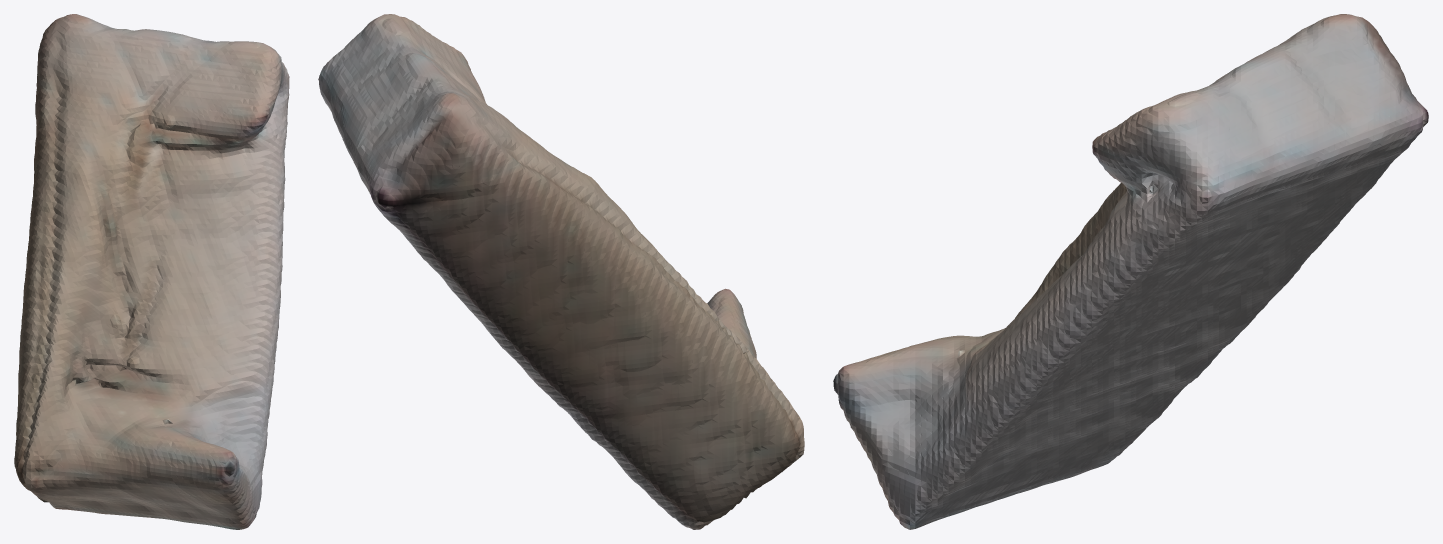
3 views of the same model, side by side, from view 1: azimuth 30°, elevation 25°; view 2: azimuth 150°, elevation 25°; view 3: azimuth 270°, elevation 25° (orthographic). The views are drawn at different scales.
Bounding box in the file's own units: 0.6219 × 0.7063 × 0.7356.
